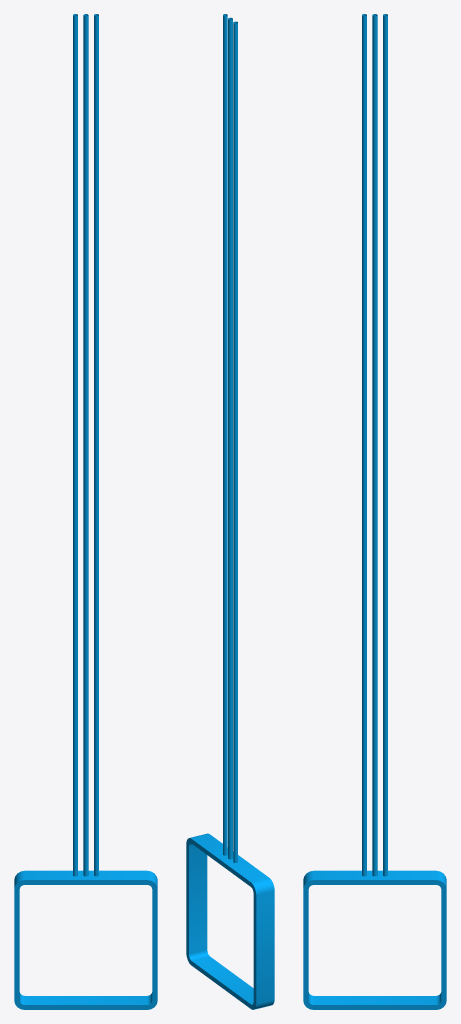
Rendered from cutter4_cube.fbx.
The picture shows the model from 3 angles, left to right: view 1: azimuth 90°, elevation 25°; view 2: azimuth 210°, elevation 25°; view 3: azimuth 270°, elevation 25°; orthographic projection. The views are drawn at different scales.
Visible parts, largest first — view 1: Cutter4_Cube; view 2: Cutter4_Cube; view 3: Cutter4_Cube.
Boxes of the visible parts, x1,y1,x2,y2 form: Cutter4_Cube: [14, 14, 157, 1009]; Cutter4_Cube: [186, 14, 274, 1009]; Cutter4_Cube: [303, 14, 446, 1009].
Size of the model in its own units: 16.5 by 824 by 108.
